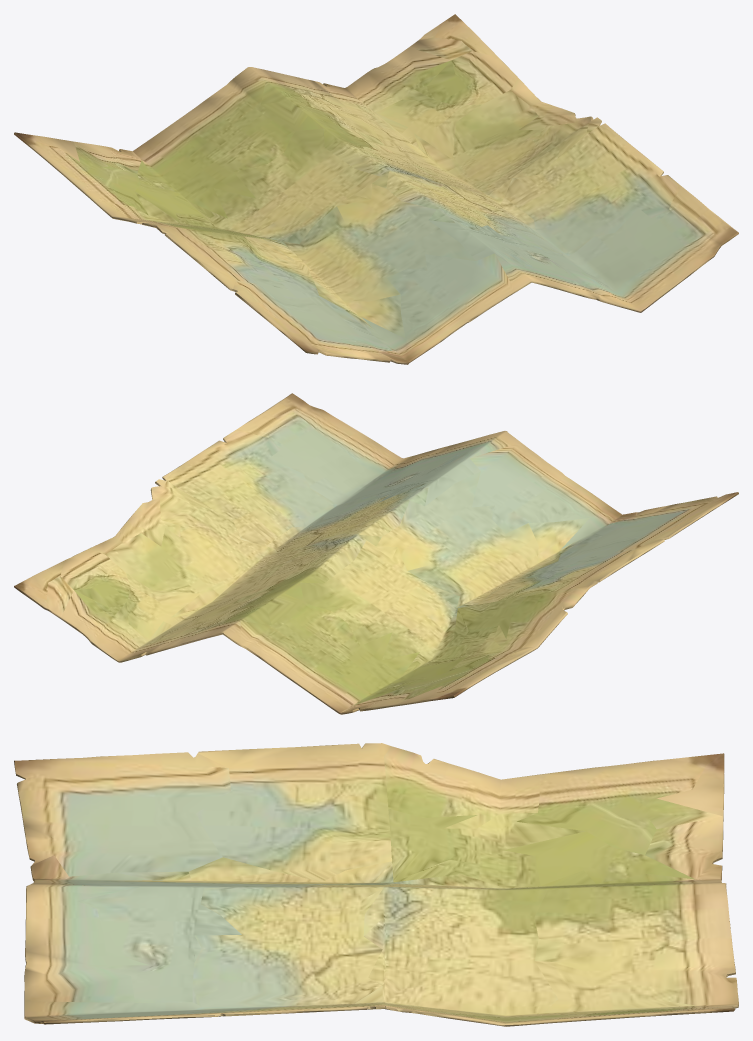
The model's file is item_map_idle.glb.
The picture shows the model from 3 angles, top to bottom: view 1: azimuth 30°, elevation 25°; view 2: azimuth 150°, elevation 25°; view 3: azimuth 270°, elevation 25°; orthographic projection. The views are drawn at different scales.
Parts seen in each view (by area): view 1: tripo_node_5369002b-404c-45fc-b0a4-286b4018b6dc; view 2: tripo_node_5369002b-404c-45fc-b0a4-286b4018b6dc; view 3: tripo_node_5369002b-404c-45fc-b0a4-286b4018b6dc.
Part boxes in pixels (<box>): tripo_node_5369002b-404c-45fc-b0a4-286b4018b6dc: <box>14,14,738,364</box>; tripo_node_5369002b-404c-45fc-b0a4-286b4018b6dc: <box>14,393,738,714</box>; tripo_node_5369002b-404c-45fc-b0a4-286b4018b6dc: <box>14,743,738,1026</box>.
Size of the model in its own units: 0.3999 by 0.0581 by 0.4627.
Materials: 1 (1 with a texture image).
